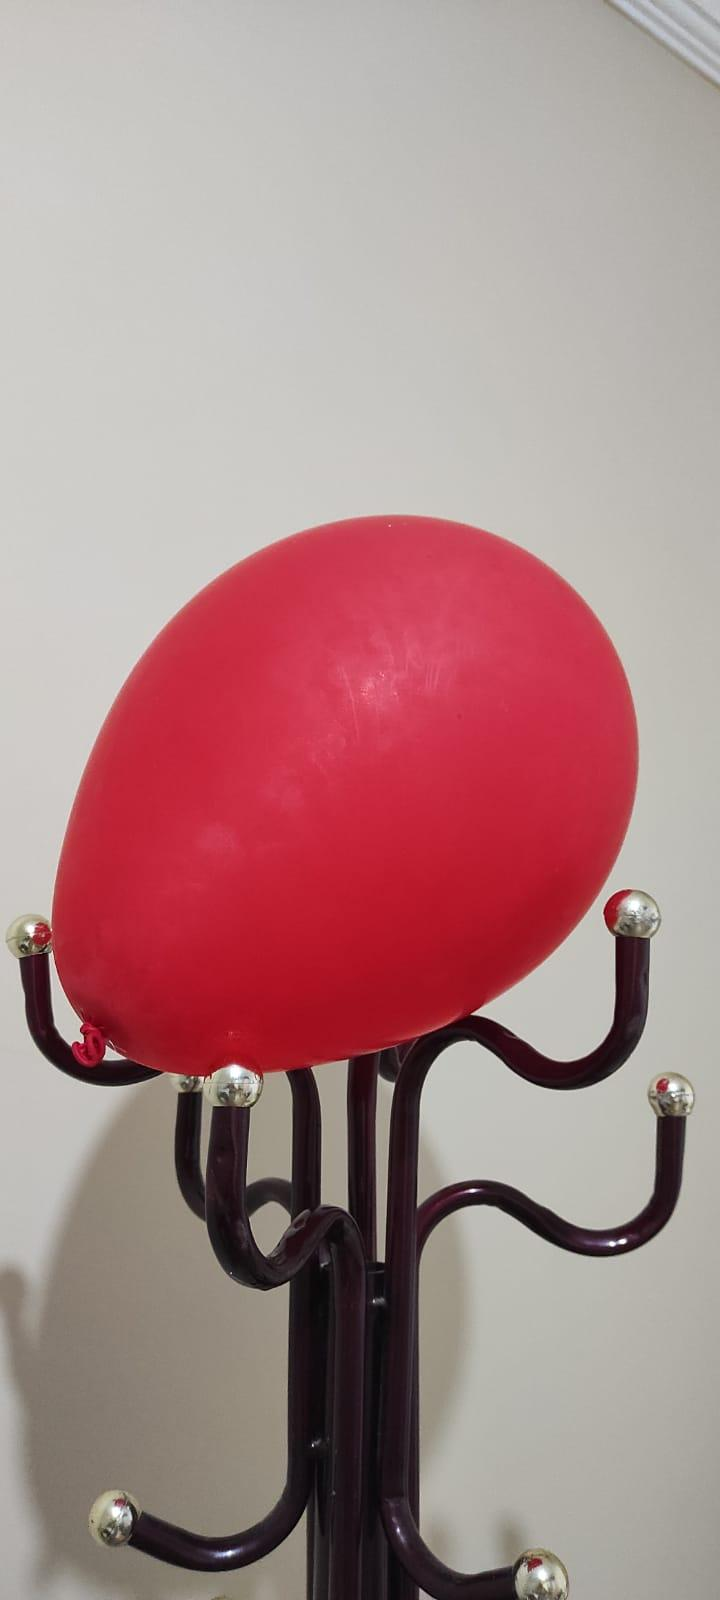red: (41, 510, 649, 1088)
